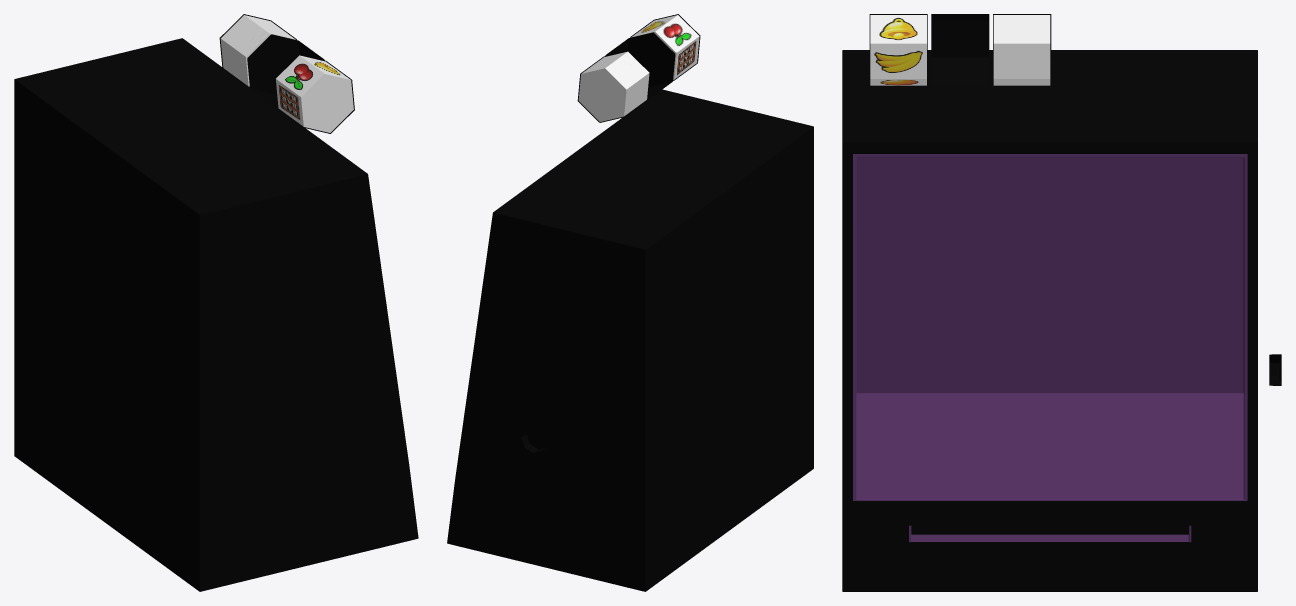
The model's file is machine.fbx.
The picture shows the model from 3 angles, left to right: view 1: azimuth 30°, elevation 25°; view 2: azimuth 150°, elevation 25°; view 3: azimuth 270°, elevation 25°; orthographic projection. The views are drawn at different scales.
Visible parts, largest first — view 1: machine.001, Cylinder, Cylinder.007, Cylinder.005; view 2: machine.001, Cylinder.005, Cylinder.007, Cylinder, lever-screw.001; view 3: machine, machine.001, Cylinder.007, Cylinder.005, Cylinder.
Part boxes in pixels (x1,y1,x2,y2): machine.001: [14, 38, 418, 591]; Cylinder: [276, 55, 353, 132]; Cylinder.007: [247, 34, 324, 107]; Cylinder.005: [220, 15, 295, 86]; machine.001: [447, 89, 813, 591]; Cylinder.005: [578, 51, 649, 121]; Cylinder.007: [605, 32, 675, 98]; Cylinder: [631, 15, 699, 79]; lever-screw.001: [521, 425, 549, 452]; machine: [853, 154, 1247, 542]; machine.001: [842, 50, 1257, 591]; Cylinder.007: [931, 14, 989, 86]; Cylinder.005: [993, 15, 1050, 85]; Cylinder: [870, 15, 926, 85].
Bounding box in the file's own units: 71.2 × 148 × 110.
